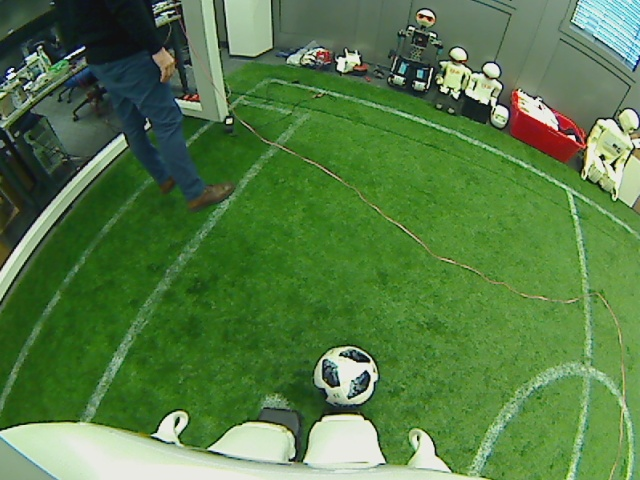ball: (310, 342, 379, 408)
